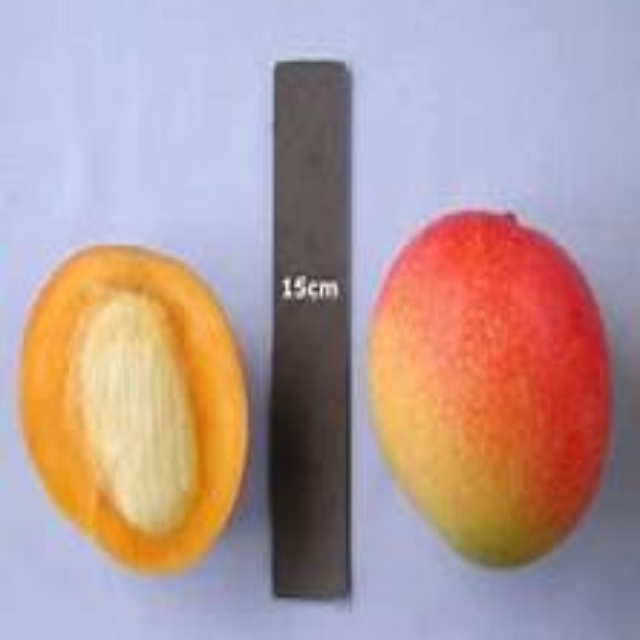mango: (367, 208, 616, 567), (19, 245, 254, 568)
